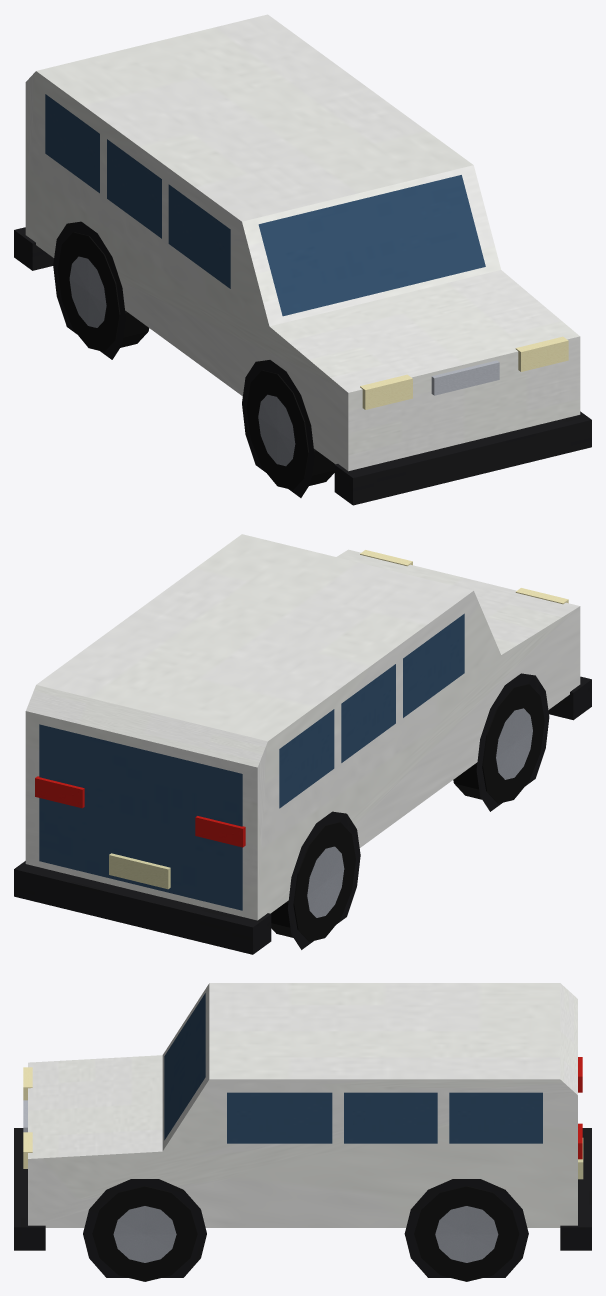
Rendered from suv-white.glb.
3 views of the same model, one above another, from view 1: azimuth 30°, elevation 25°; view 2: azimuth 150°, elevation 25°; view 3: azimuth 270°, elevation 25° (orthographic). The views are drawn at different scales.
Parts seen in each view (by area): view 1: suv-white, wheel_rr, wheel_fr; view 2: suv-white, wheel_fr, wheel_rr; view 3: suv-white, wheel_rl, wheel_fl.
Part boxes in pixels (bbox=[...]): suv-white: bbox=[14, 14, 591, 505]; wheel_rr: bbox=[57, 232, 149, 351]; wheel_fr: bbox=[246, 370, 334, 489]; suv-white: bbox=[14, 534, 591, 954]; wheel_fr: bbox=[453, 684, 544, 803]; wheel_rr: bbox=[271, 822, 355, 941]; suv-white: bbox=[14, 983, 591, 1277]; wheel_rl: bbox=[414, 1186, 519, 1281]; wheel_fl: bbox=[92, 1186, 197, 1281].
Size of the model in its own units: 2.01 by 1.9 by 4.94.
Materials: 1 (1 with a texture image).
